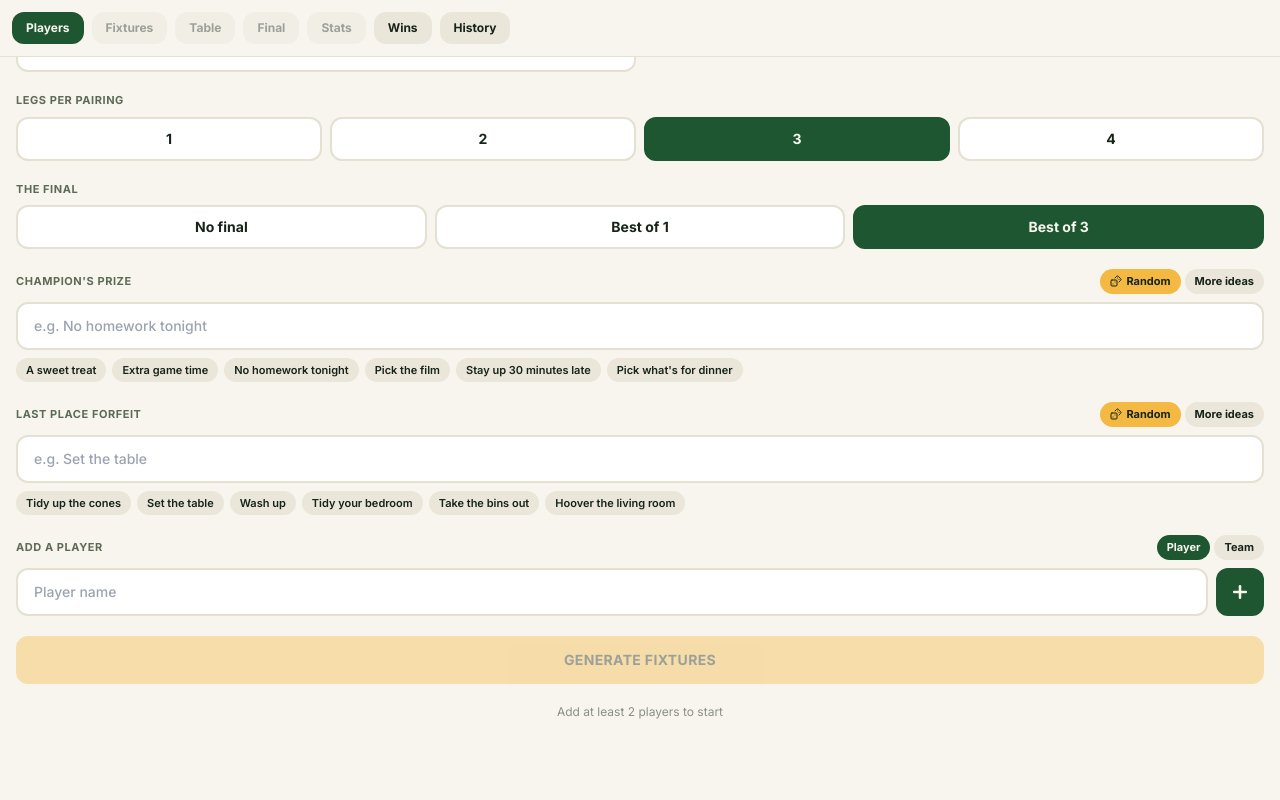
Test: Prize and forfeit ideas › pages through the ideas and draws a random one into the box
The width and height of the screenshot is (1280, 800).
(page scrolled)
Expected: the button "Set the table" is shown, [137,491,224,515]
Expected: the text "No screen time tonight" is not shown
Click the button with aria-label "More ideas for last place forfeit": [1224, 414] box [1184,402,1264,427]
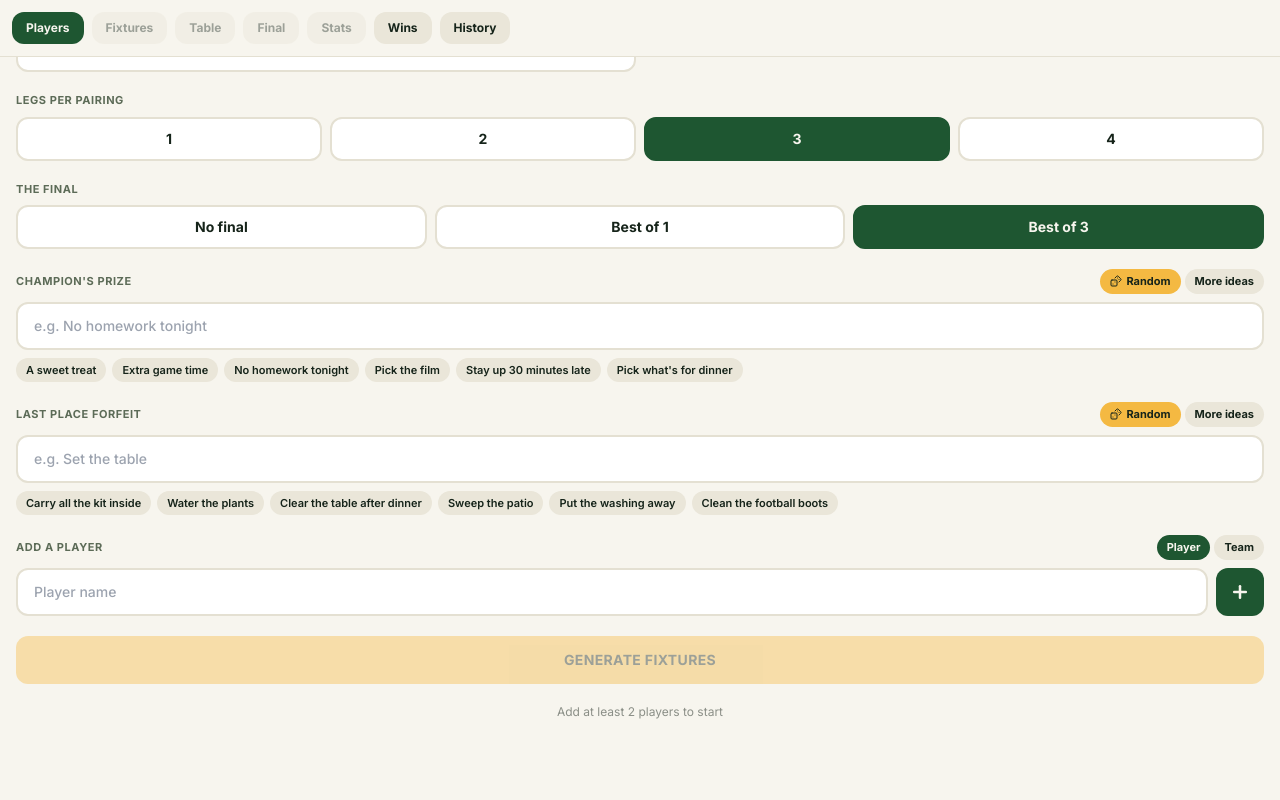
Click the button with aria-label "More ideas for last place forfeit": [1224, 414] box [1184,402,1264,427]
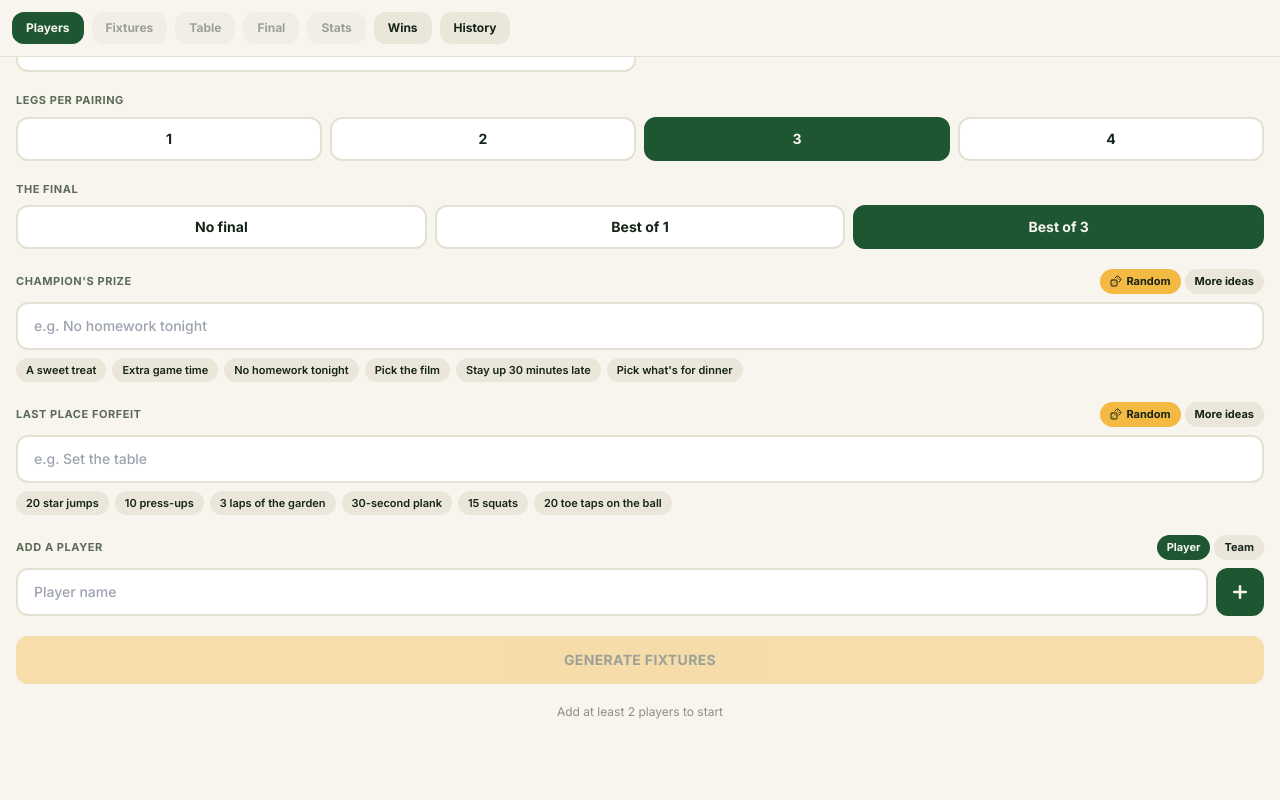
Click the button with aria-label "More ideas for last place forfeit": [1224, 414] box [1184,402,1264,427]
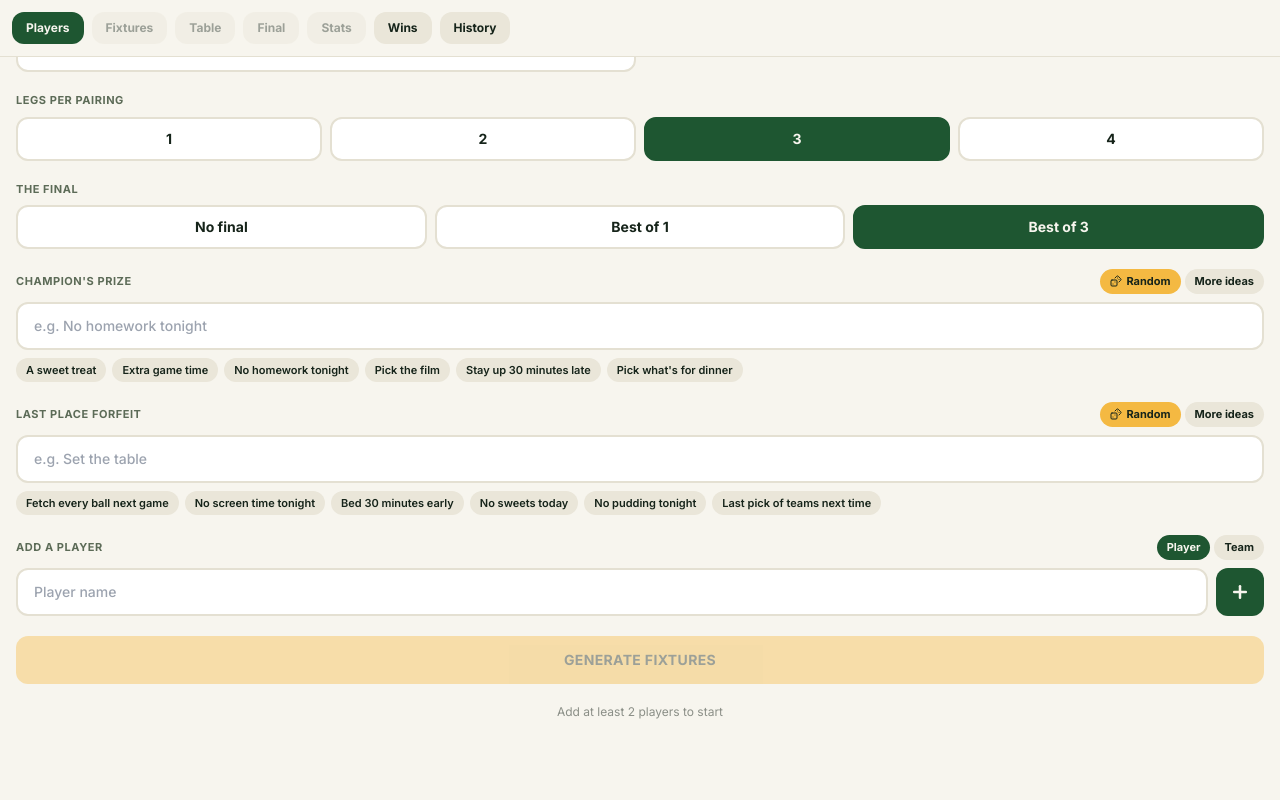
Click the button "No screen time tonight": [255, 503] box [185,491,325,515]
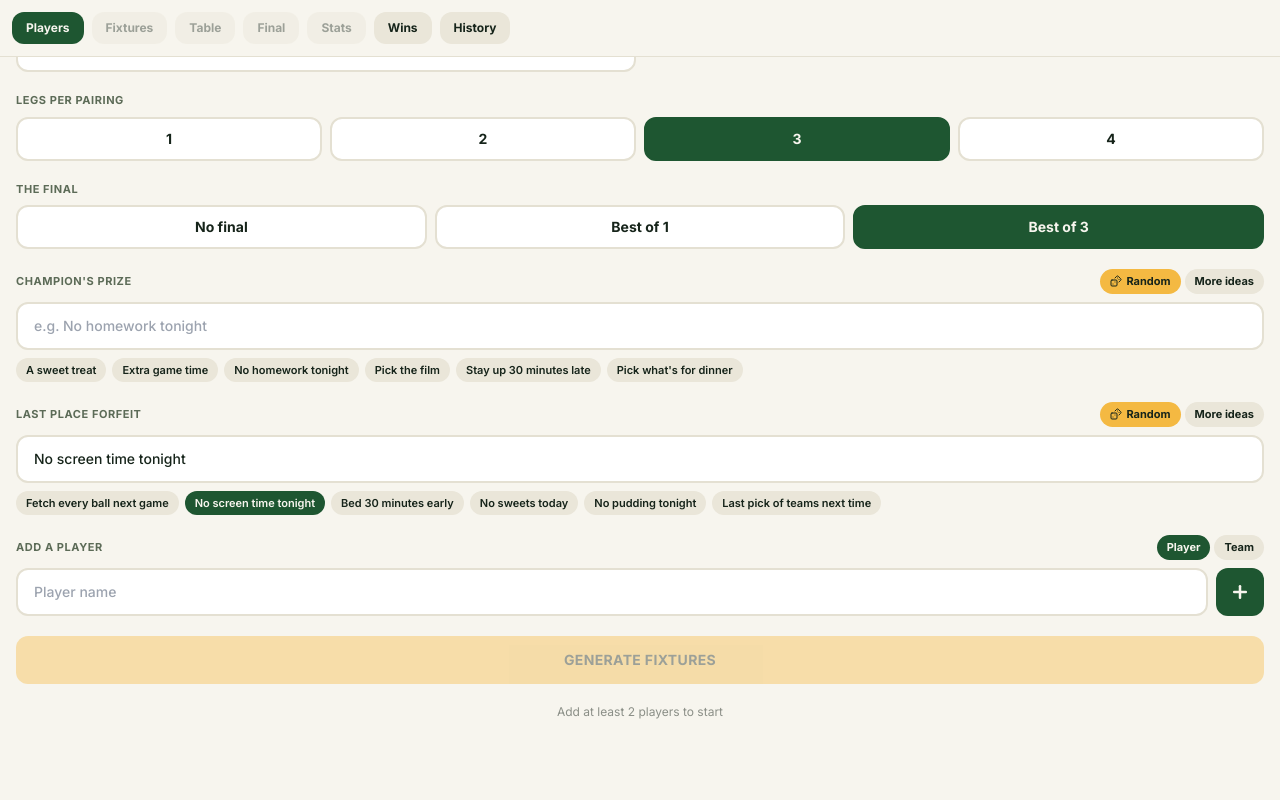
Now the field named "Last place forfeit" holds "No screen time tonight", box [16,435,1264,483]
Click the button with aria-label "Random champion's prize": [1140, 281] box [1100,269,1180,294]
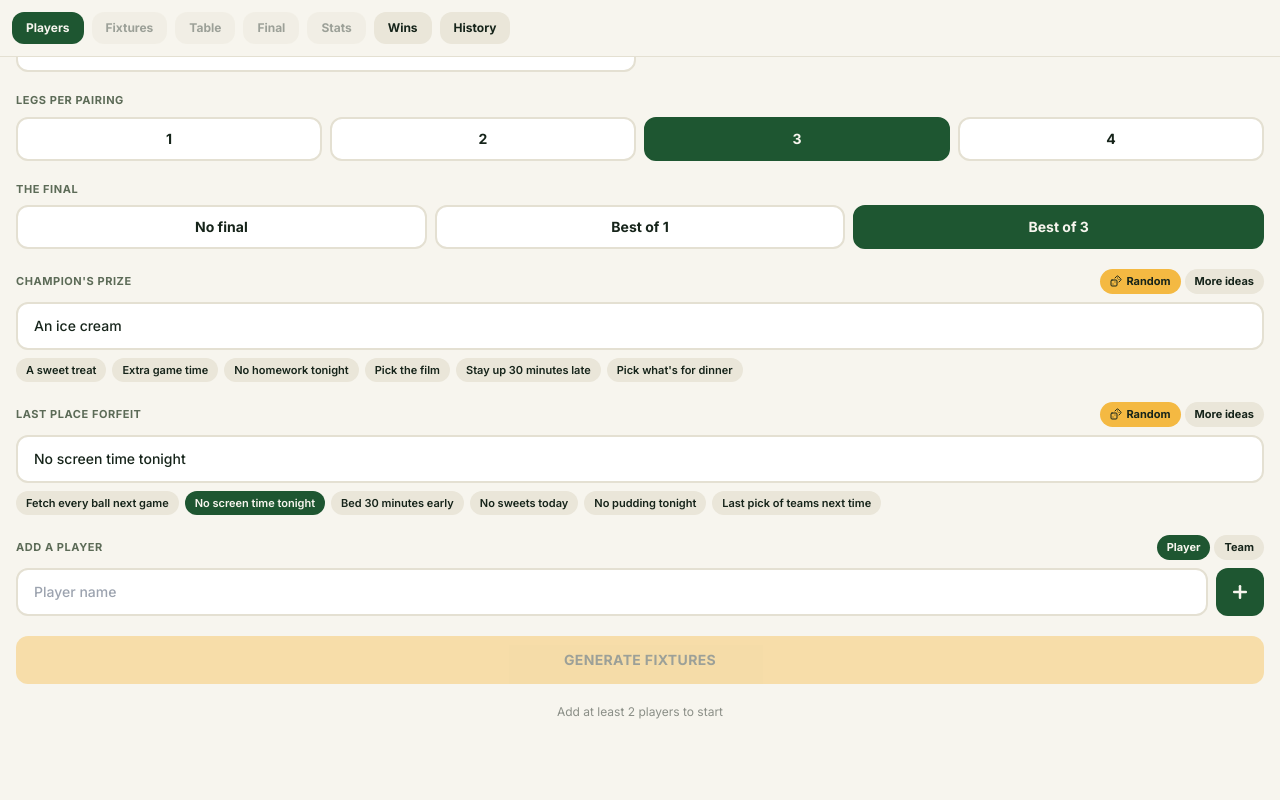
Now the field named "Champion's prize" is not empty, box [16,302,1264,350]
Click the button with aria-label "Random champion's prize": [1140, 281] box [1100,269,1180,294]
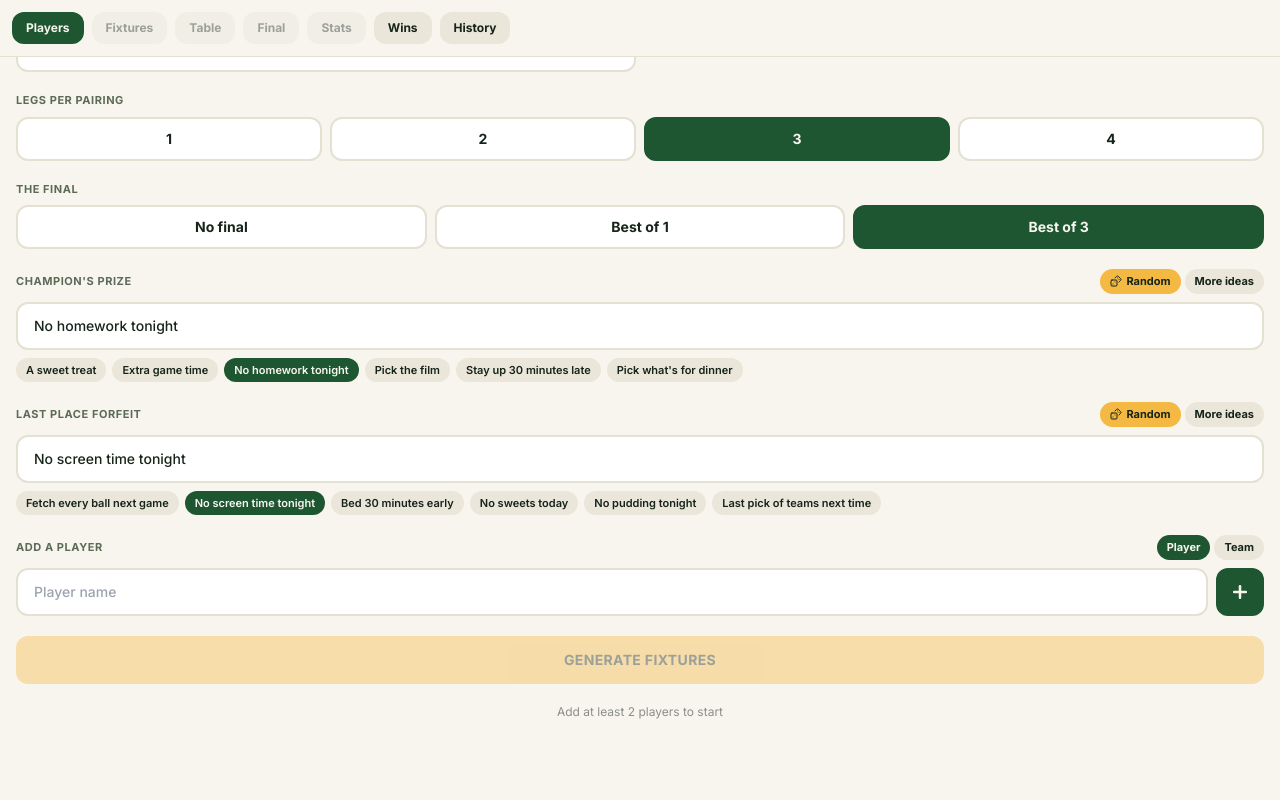
Now the field named "Champion's prize" does not hold "An ice cream", box [16,302,1264,350]
